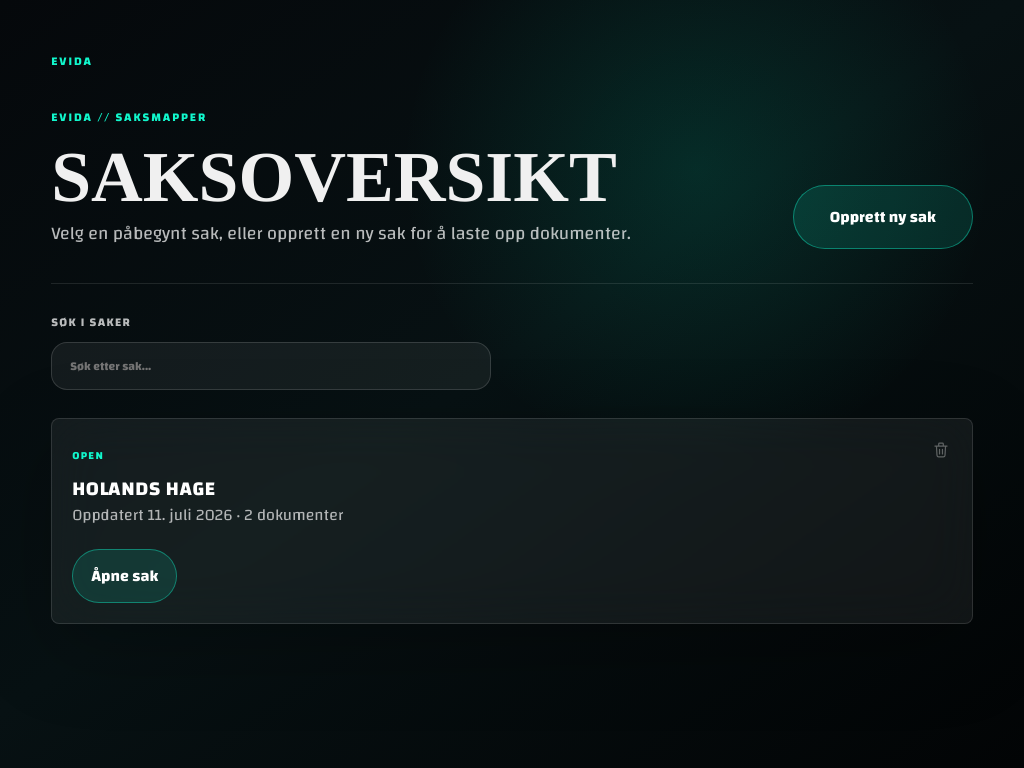
it: App startup and shell routing › shows case registration pending state only while backend resolution is pending
The width and height of the screenshot is (1024, 768).
Check: the heading "Saksoversikt" is shown, box [51,137,617,217]
Click the button "Opprett ny sak" at {"x": 883, "y": 217}, box [793,185,973,249]
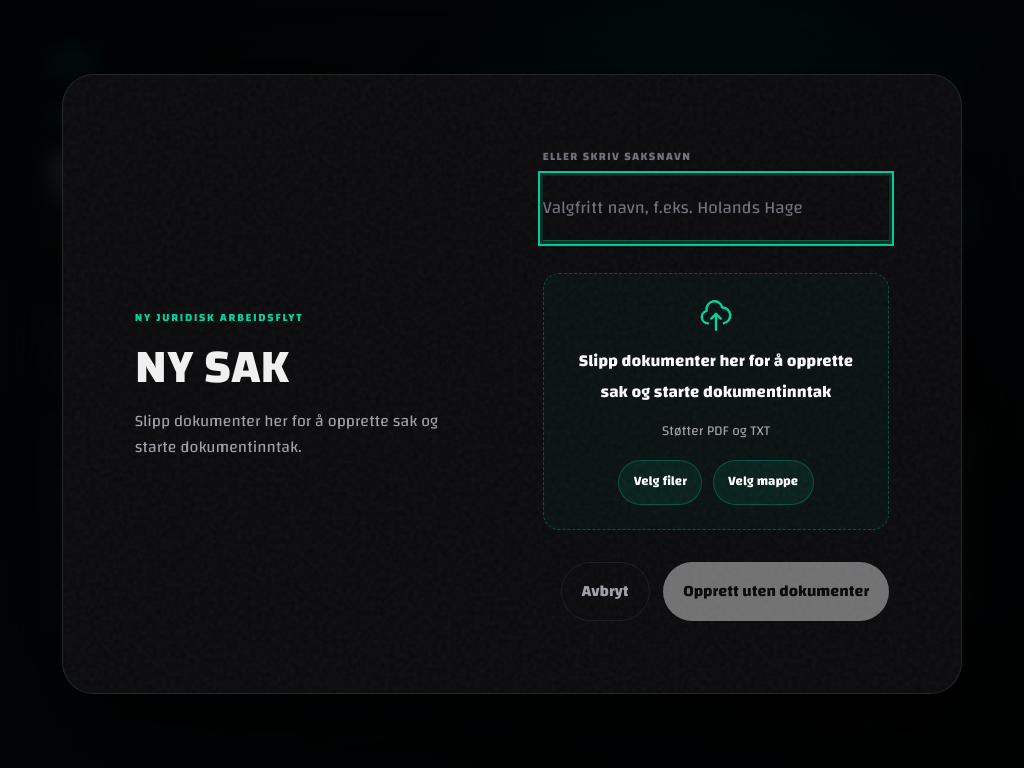
Type "Morten test sak" into the field named "Navn på saken" at {"x": 716, "y": 208}, box [543,176,889,241]
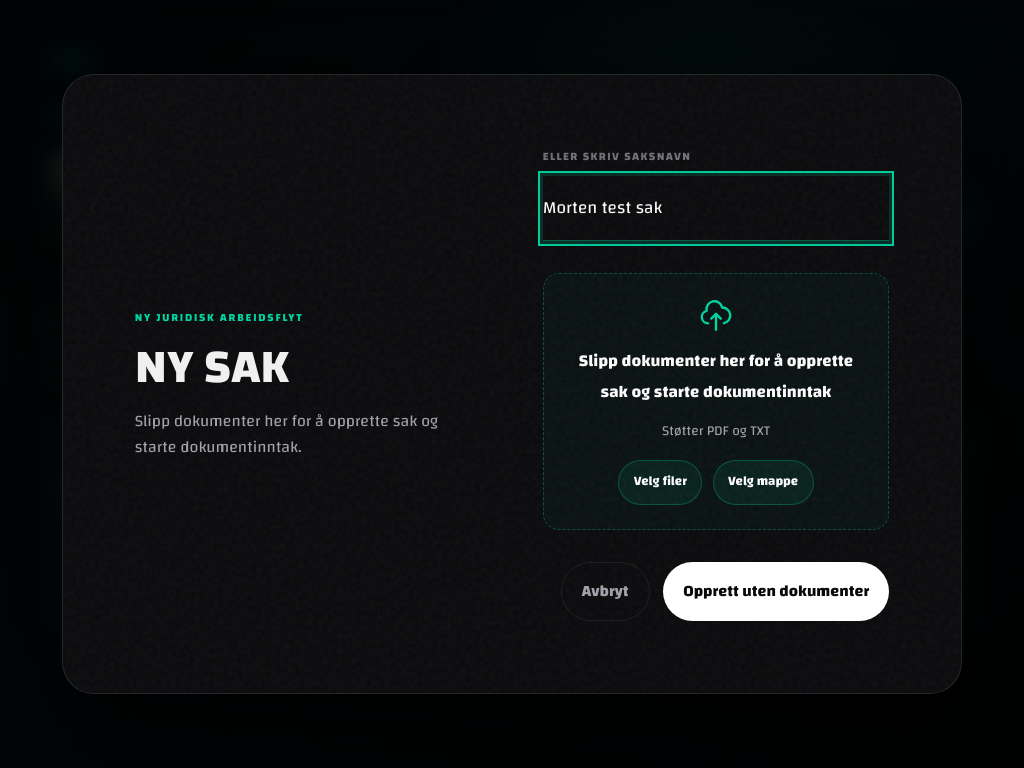
Click the button "Opprett uten dokumenter" at {"x": 776, "y": 592}, box [663,562,889,621]
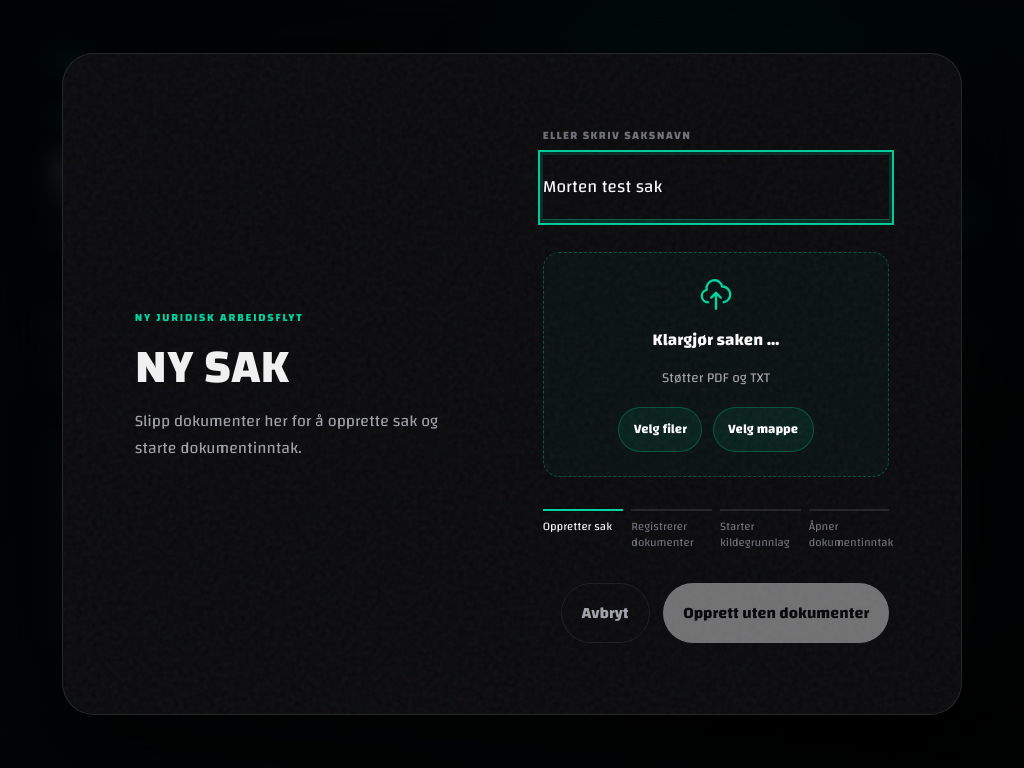
Check: the text "Morten test sak klargjøres" is shown, box [528,329,719,359]
Check: the text "Venter på backend-registrering før arbeidsrommet åpnes." is shown, box [528,365,954,389]
